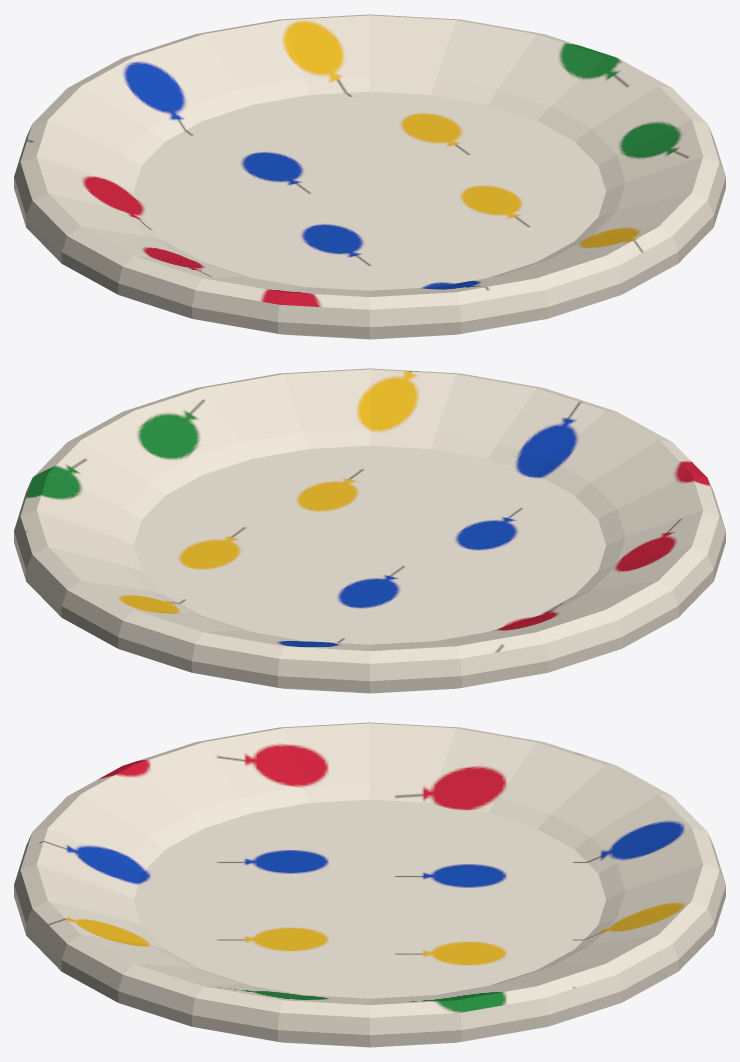
Rendered from party_plate_balloons.glb.
The picture shows the model from 3 angles, top to bottom: view 1: azimuth 30°, elevation 25°; view 2: azimuth 150°, elevation 25°; view 3: azimuth 270°, elevation 25°; orthographic projection.
Parts seen in each view (by area): view 1: party_plate_balloons; view 2: party_plate_balloons; view 3: party_plate_balloons.
Boxes of the visible parts, box(x1,y1,x2,y2) form: party_plate_balloons: box(14, 14, 725, 339); party_plate_balloons: box(14, 368, 725, 693); party_plate_balloons: box(14, 722, 725, 1047).
Size of the model in its own units: 0.22 by 0.016 by 0.22.
Materials: 1 (1 with a texture image).
